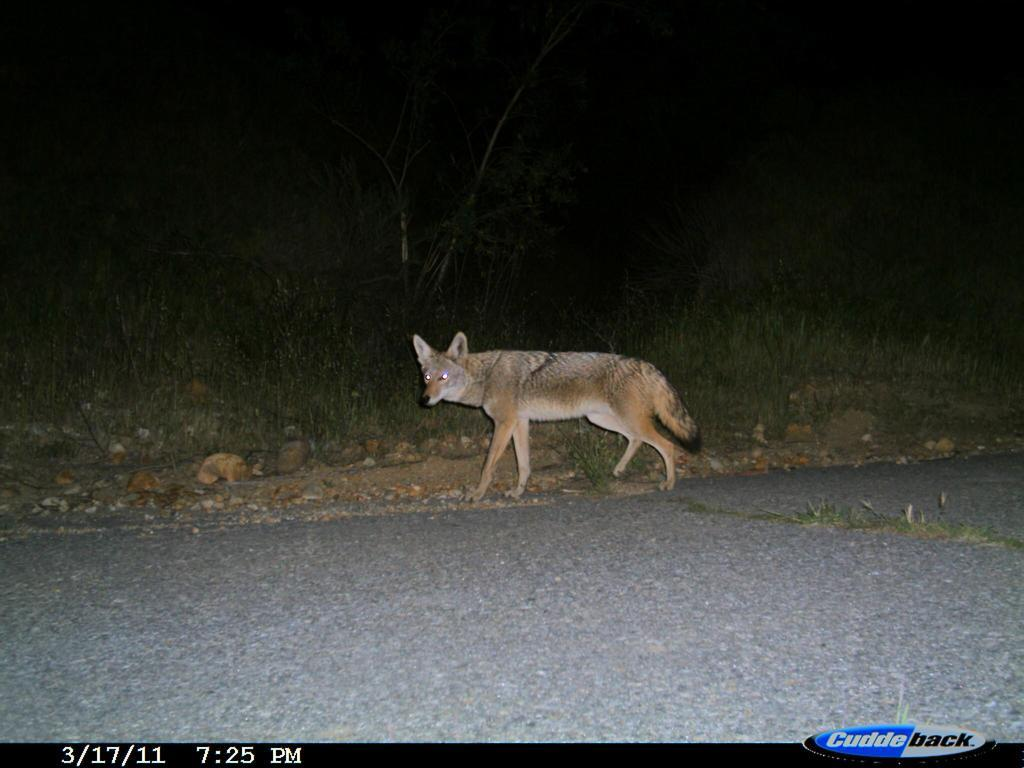coyote: (401, 327, 713, 511)
